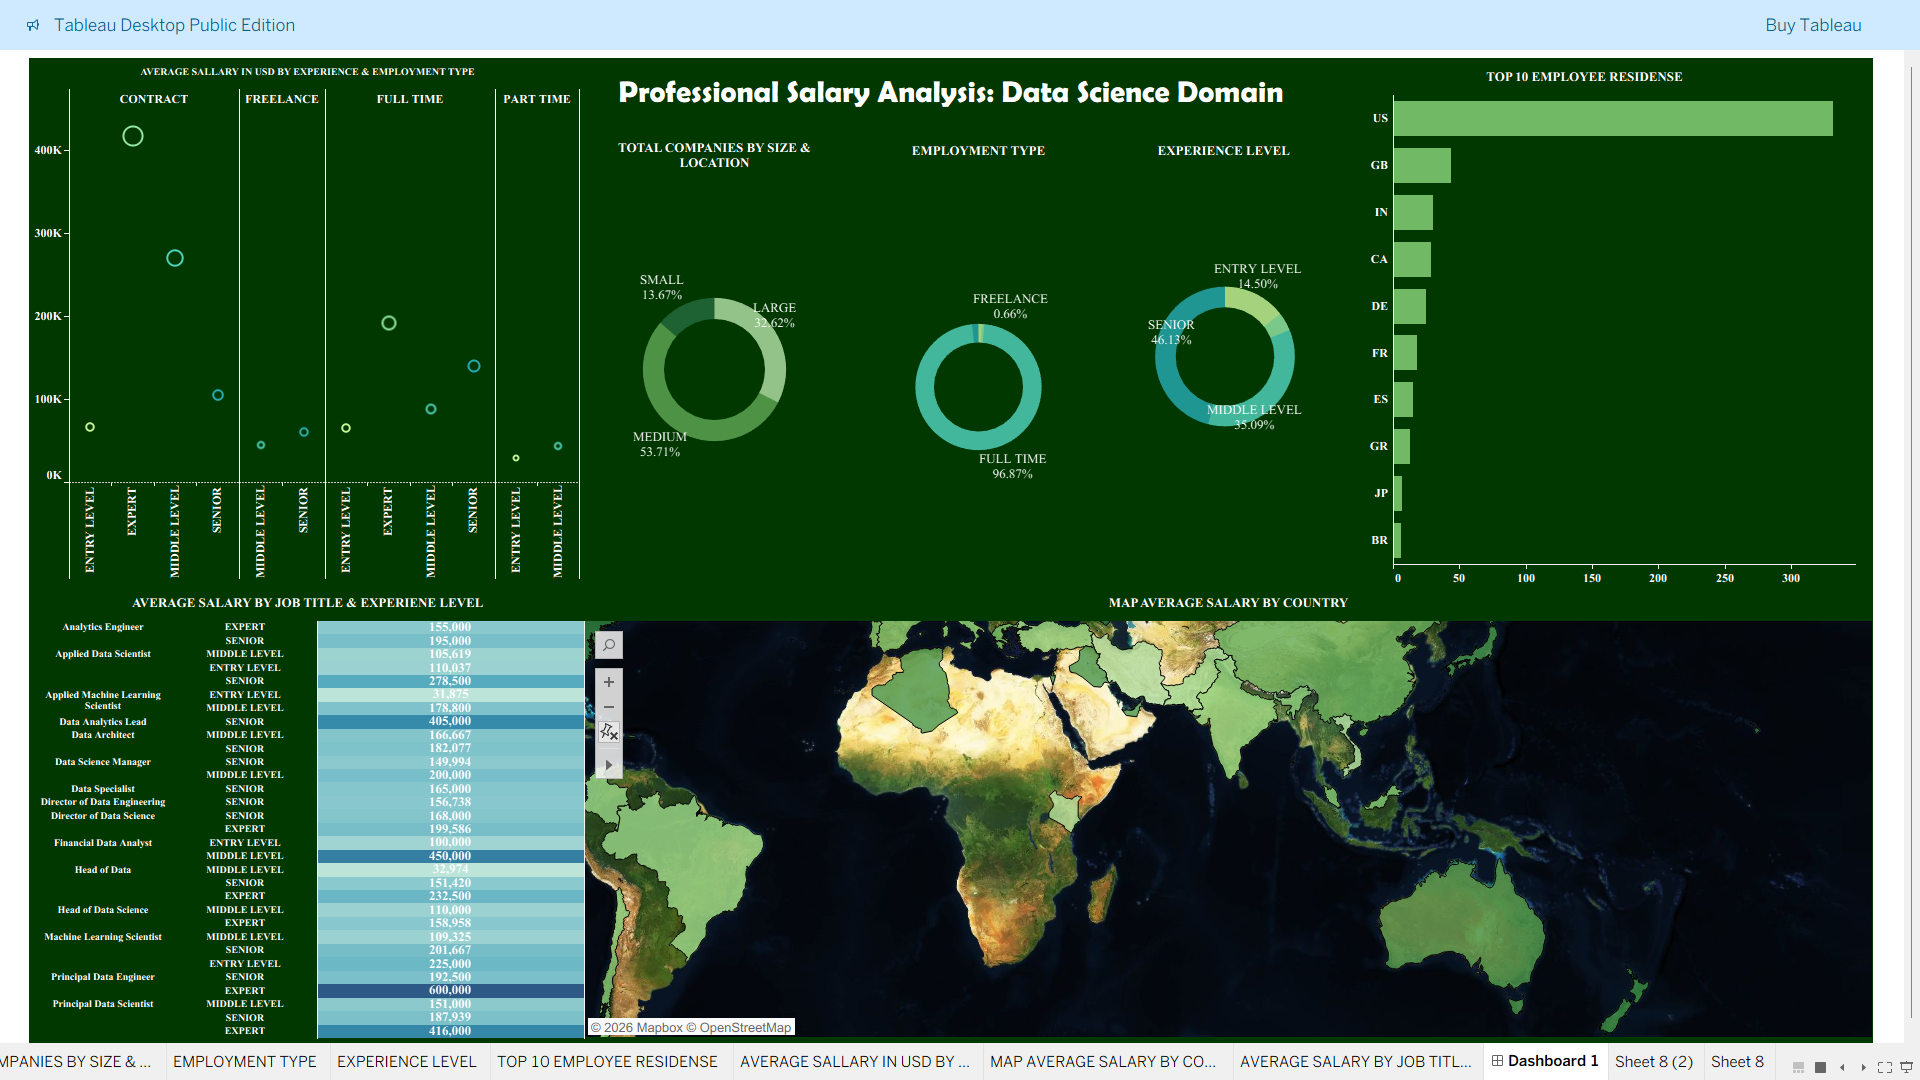

What the dashboard file says about the page in this screenshot:
{"tool":"tableau","page":{"name":"Dashboard 1","canvas":[1860,1001],"ordinal":0},"visuals":[{"type":"text","box":[8,8,1844,67]},{"type":"worksheet","title":"AVERAGE SALLARY IN USD BY EXPERIENCE & EMPLOYMENT TYPE","mark":"Shape","rows":["salary_in_usd"],"cols":["employment_type","experience_level"],"box":[13,12,547,518]},{"type":"worksheet","title":"TOP 10 EMPLOYEE RESIDENSE","mark":"Automatic","rows":["employee_residence"],"cols":["employee_residence"],"box":[1292,15,543,529]},{"type":"worksheet","title":"Sheet 8","mark":"Automatic","box":[8,75,1844,462]},{"type":"worksheet","title":"TOTAL COMPANIES BY SIZE & LOCATION","mark":"Pie","rows":["Calculation_0772699276492801","Calculation_0772699276492801"],"box":[581,86,225,422]},{"type":"worksheet","title":"EMPLOYMENT TYPE","mark":"Pie","rows":["Calculation_0772699276492801","Calculation_0772699276492801"],"box":[827,89,261,466]},{"type":"worksheet","title":"EXPERIENCE LEVEL","mark":"Pie","rows":["Calculation_0772699276492801","Calculation_0772699276492801"],"box":[1096,89,216,405]},{"type":"worksheet","title":"AVERAGE SALARY BY JOB TITLE & EXPERIENE LEVEL ","mark":"Square","rows":["job_title","experience_level"],"box":[8,537,560,456]},{"type":"worksheet","title":"Sheet 8 (2)","mark":"Automatic","box":[568,537,1284,456]},{"type":"worksheet","title":"MAP AVERAGE SALARY BY COUNTRY","mark":"Automatic","box":[564,541,1287,446]}]}

Visuals, with their boxes on the page's 1860x1001 design canvas (x1, y1, x2, y2). These are canvas units, not pixel positions in the 1920x1080 screenshot, which may show the page scaled, cropped or inside an application window:
text: {"x1": 8, "y1": 8, "x2": 1852, "y2": 75}
"AVERAGE SALLARY IN USD BY EXPERIENCE & EMPLOYMENT TYPE" worksheet (Shape marks): {"x1": 13, "y1": 12, "x2": 560, "y2": 530}
"TOP 10 EMPLOYEE RESIDENSE" worksheet: {"x1": 1292, "y1": 15, "x2": 1835, "y2": 544}
"Sheet 8" worksheet: {"x1": 8, "y1": 75, "x2": 1852, "y2": 537}
"TOTAL COMPANIES BY SIZE & LOCATION" worksheet (Pie marks): {"x1": 581, "y1": 86, "x2": 806, "y2": 508}
"EMPLOYMENT TYPE" worksheet (Pie marks): {"x1": 827, "y1": 89, "x2": 1088, "y2": 555}
"EXPERIENCE LEVEL" worksheet (Pie marks): {"x1": 1096, "y1": 89, "x2": 1312, "y2": 494}
"AVERAGE SALARY BY JOB TITLE & EXPERIENE LEVEL " worksheet (Square marks): {"x1": 8, "y1": 537, "x2": 568, "y2": 993}
"Sheet 8 (2)" worksheet: {"x1": 568, "y1": 537, "x2": 1852, "y2": 993}
"MAP AVERAGE SALARY BY COUNTRY" worksheet: {"x1": 564, "y1": 541, "x2": 1851, "y2": 987}
